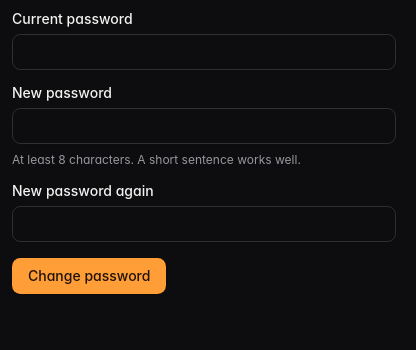
the change password form › refuses a new password shorter than 8 characters
The image size is (416, 350).
Type "old password" into the password field labelled "Current password" at {"x": 204, "y": 52}, box [12,34,396,70]
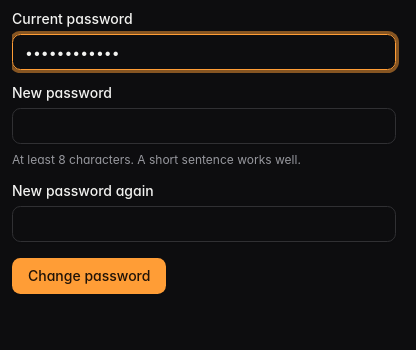
Type "short" into the password field labelled "New password" at {"x": 204, "y": 126}, box [12,108,396,144]
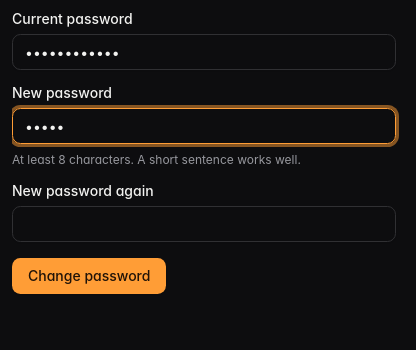
Type "short" into the password field labelled "New password again" at {"x": 204, "y": 224}, box [12,206,396,242]
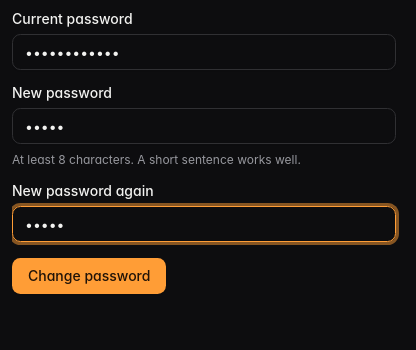
Click the button "Change password" at {"x": 89, "y": 276}, box [12,258,166,294]
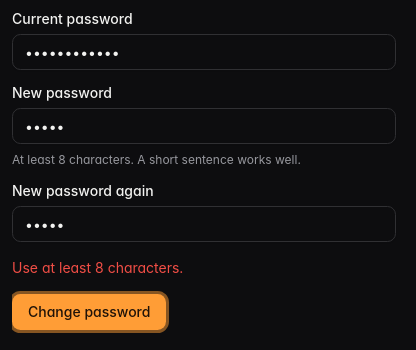
Expected: the message reads "Use at least 8 characters.", [12,259,183,276]
